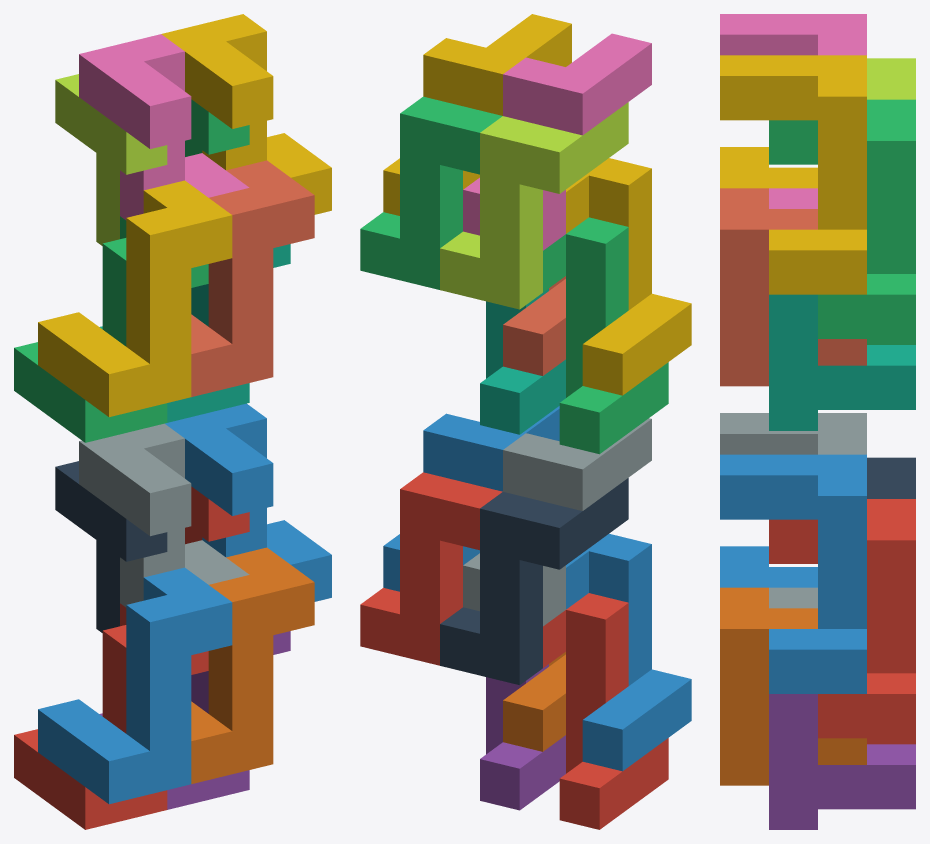
Rendered from tiling.obj.
3 renders of one model, left to right at view 1: azimuth 30°, elevation 25°; view 2: azimuth 150°, elevation 25°; view 3: azimuth 270°, elevation 25°, orthographic. The views are drawn at different scales.
Visible parts, largest first — view 1: copy_1_domain_4, copy_1_domain_2, copy_1_domain_8, copy_1_domain_6, copy_2_domain_4, copy_2_domain_2, copy_2_domain_8, copy_2_domain_6, copy_1_domain_1, copy_1_domain_3, copy_2_domain_1, copy_2_domain_3 (+4 smaller); view 2: copy_2_domain_1, copy_2_domain_3, copy_1_domain_3, copy_2_domain_5, copy_1_domain_1, copy_2_domain_7, copy_1_domain_2, copy_1_domain_4, copy_2_domain_4, copy_2_domain_2, copy_2_domain_8, copy_2_domain_6 (+4 smaller); view 3: copy_2_domain_8, copy_2_domain_6, copy_2_domain_5, copy_2_domain_7, copy_1_domain_5, copy_1_domain_6, copy_1_domain_7, copy_1_domain_8, copy_2_domain_4, copy_2_domain_2, copy_1_domain_4, copy_1_domain_2 (+2 smaller).
Boxes of the visible parts, x1,y1,x2,y2 form: copy_1_domain_4: (38,180,232,417); copy_1_domain_2: (38,567,232,804); copy_1_domain_8: (191,160,314,396); copy_1_domain_6: (191,547,314,783); copy_2_domain_4: (79,34,249,220); copy_2_domain_2: (79,423,249,607); copy_2_domain_8: (161,14,331,214); copy_2_domain_6: (165,403,331,601); copy_1_domain_1: (14,603,208,829); copy_1_domain_3: (14,216,208,442); copy_2_domain_1: (55,461,167,632); copy_2_domain_3: (55,74,167,245); copy_2_domain_1: (440,478,628,685); copy_2_domain_3: (440,102,628,309); copy_1_domain_3: (543,217,668,454); copy_2_domain_5: (360,472,502,665); copy_1_domain_1: (543,593,668,829); copy_2_domain_7: (360,96,502,289); copy_1_domain_2: (566,533,691,771); copy_1_domain_4: (566,158,691,395); copy_2_domain_4: (463,33,651,250); copy_2_domain_2: (463,418,651,626); copy_2_domain_8: (383,14,571,215); copy_2_domain_6: (383,406,559,591); copy_2_domain_8: (720,55,866,294); copy_2_domain_6: (720,454,866,693); copy_2_domain_5: (769,499,915,738); copy_2_domain_7: (769,99,915,338); copy_1_domain_5: (769,694,915,829); copy_1_domain_6: (720,587,866,785); copy_1_domain_7: (769,294,915,430); copy_1_domain_8: (720,188,866,386); copy_2_domain_4: (720,14,866,208); copy_2_domain_2: (720,413,866,608); copy_1_domain_4: (720,147,817,188); copy_1_domain_2: (720,546,817,587).
Size of the model in its own units: 6 by 17 by 4.
